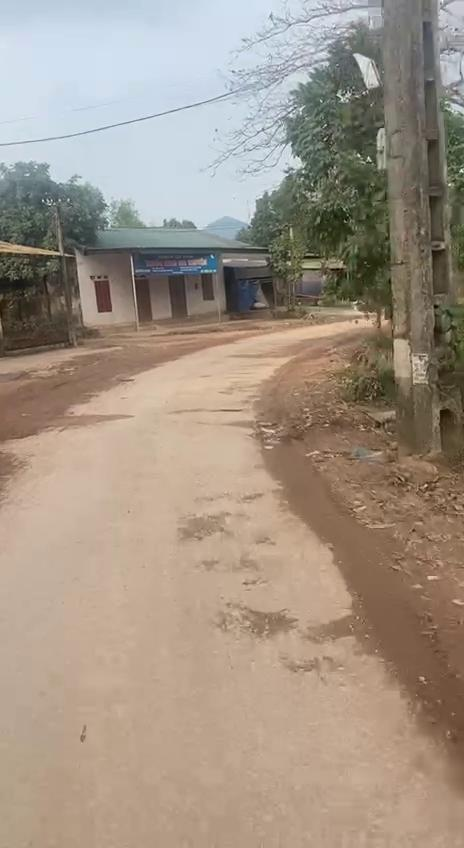pothole: (220, 598, 295, 644), (305, 602, 370, 646), (177, 511, 234, 544)
